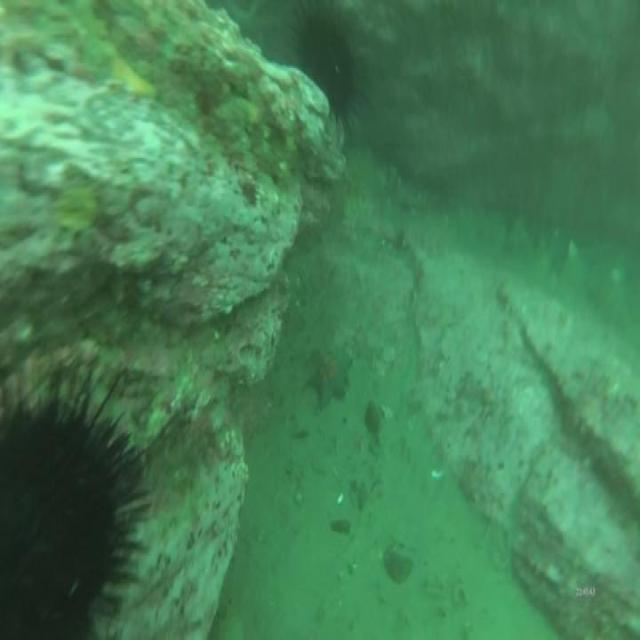echinus: (0, 347, 149, 640), (286, 1, 366, 136)
starfish: (305, 343, 353, 414)
